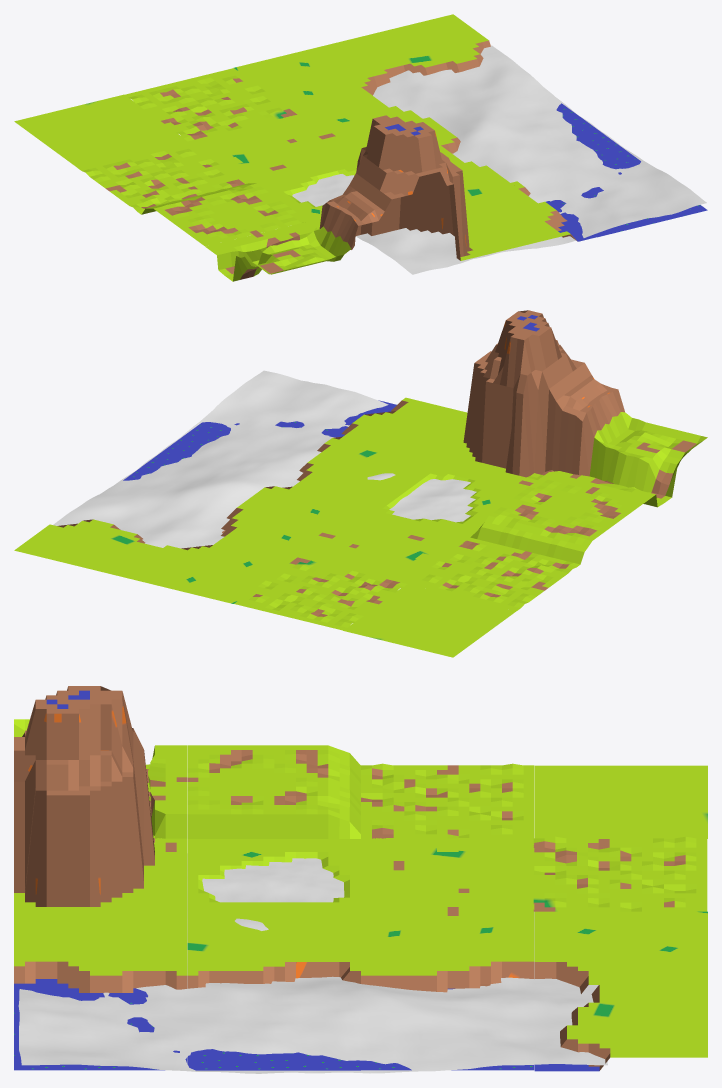
File: Scena1.fbx
3 renders of one model, top to bottom at view 1: azimuth 30°, elevation 25°; view 2: azimuth 150°, elevation 25°; view 3: azimuth 270°, elevation 25°, orthographic. The views are drawn at different scales.
Visible parts, largest first — view 1: Plane.001, Mar, FondOcean, Charcoleta; view 2: Plane.001, Mar, Charcoleta, FondOcean; view 3: Plane.001, Mar, FondOcean, Charcoleta.
Part boxes in pixels (box(x1,y1,x2,y2)): Plane.001: box(14, 14, 598, 281); Mar: box(356, 45, 706, 274); FondOcean: box(551, 103, 707, 237); Charcoleta: box(292, 174, 353, 206); Plane.001: box(14, 310, 707, 657); Mar: box(53, 370, 395, 548); Charcoleta: box(389, 479, 476, 522); FondOcean: box(123, 415, 356, 480); Plane.001: box(14, 686, 707, 1071); Mar: box(18, 912, 607, 1073); FondOcean: box(14, 997, 534, 1070); Charcoleta: box(187, 853, 344, 940).
Bounding box in the file's own units: 8444 × 2485 × 8406.
